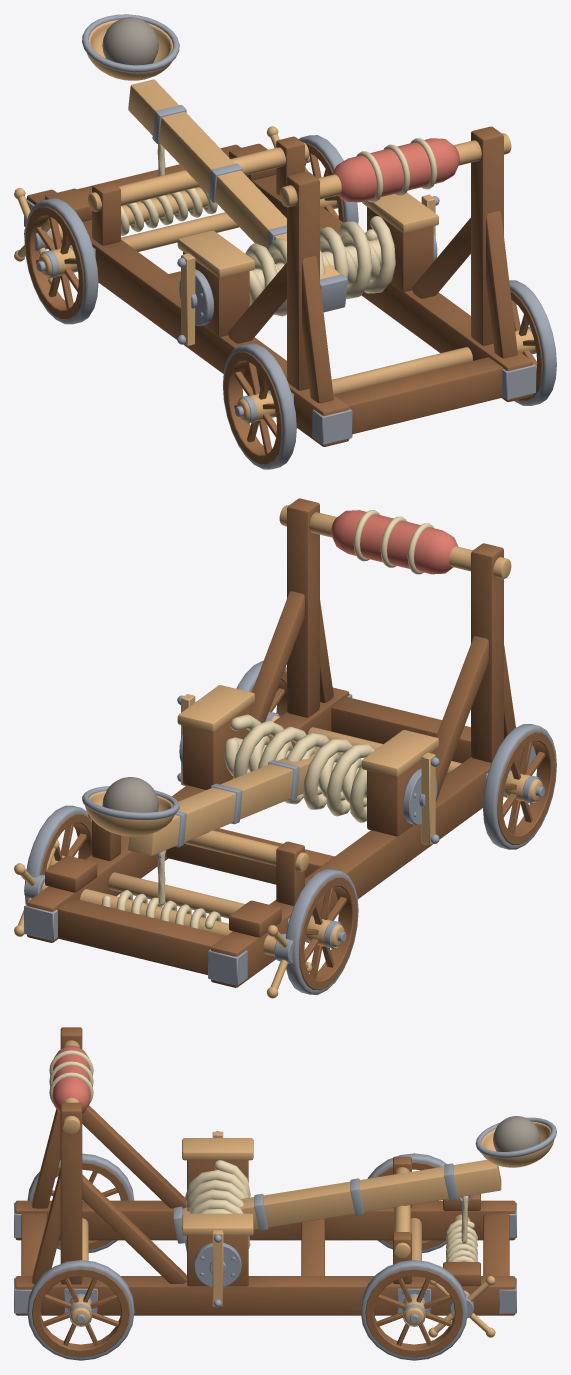
The model's file is catapult.glb.
The picture shows the model from 3 angles, top to bottom: view 1: azimuth 30°, elevation 25°; view 2: azimuth 150°, elevation 25°; view 3: azimuth 270°, elevation 25°; orthographic projection. The views are drawn at different scales.
Parts seen in each view (by area): view 1: catapult_body, catapult_fittings, catapult_arm, catapult_wheel_front_left, catapult_wheel_rear_left, catapult_wheel_front_right, catapult_wheel_rear_right; view 2: catapult_body, catapult_fittings, catapult_arm, catapult_wheel_front_left, catapult_wheel_rear_left, catapult_wheel_rear_right, catapult_wheel_front_right; view 3: catapult_body, catapult_arm, catapult_fittings, catapult_wheel_front_right, catapult_wheel_rear_right, catapult_wheel_front_left, catapult_wheel_rear_left.
Boxes of the visible parts, x1=… form: catapult_body: x1=27, y1=126, x2=533, y2=446; catapult_fittings: x1=14, y1=126, x2=536, y2=444; catapult_arm: x1=82, y1=14, x2=347, y2=312; catapult_wheel_front_left: x1=222, y1=343, x2=296, y2=469; catapult_wheel_rear_left: x1=24, y1=198, x2=98, y2=324; catapult_wheel_front_right: x1=509, y1=280, x2=556, y2=405; catapult_wheel_rear_right: x1=299, y1=135, x2=358, y2=223; catapult_body: x1=27, y1=498, x2=523, y2=987; catapult_fittings: x1=14, y1=510, x2=536, y2=998; catapult_arm: x1=82, y1=747, x2=341, y2=858; catapult_wheel_front_left: x1=483, y1=724, x2=556, y2=849; catapult_wheel_rear_left: x1=285, y1=869, x2=358, y2=994; catapult_wheel_rear_right: x1=24, y1=805, x2=91, y2=904; catapult_wheel_front_right: x1=236, y1=660, x2=286, y2=721; catapult_body: x1=15, y1=1027, x2=515, y2=1315; catapult_arm: x1=173, y1=1116, x2=556, y2=1243; catapult_fittings: x1=14, y1=1045, x2=516, y2=1337; catapult_wheel_front_right: x1=27, y1=1260, x2=134, y2=1360; catapult_wheel_rear_right: x1=360, y1=1260, x2=467, y2=1360; catapult_wheel_front_left: x1=27, y1=1153, x2=134, y2=1252; catapult_wheel_rear_left: x1=367, y1=1153, x2=446, y2=1252.
Size of the model in its own units: 2.49 by 2.26 by 4.56.
Materials: 7 (1 with a texture image).
